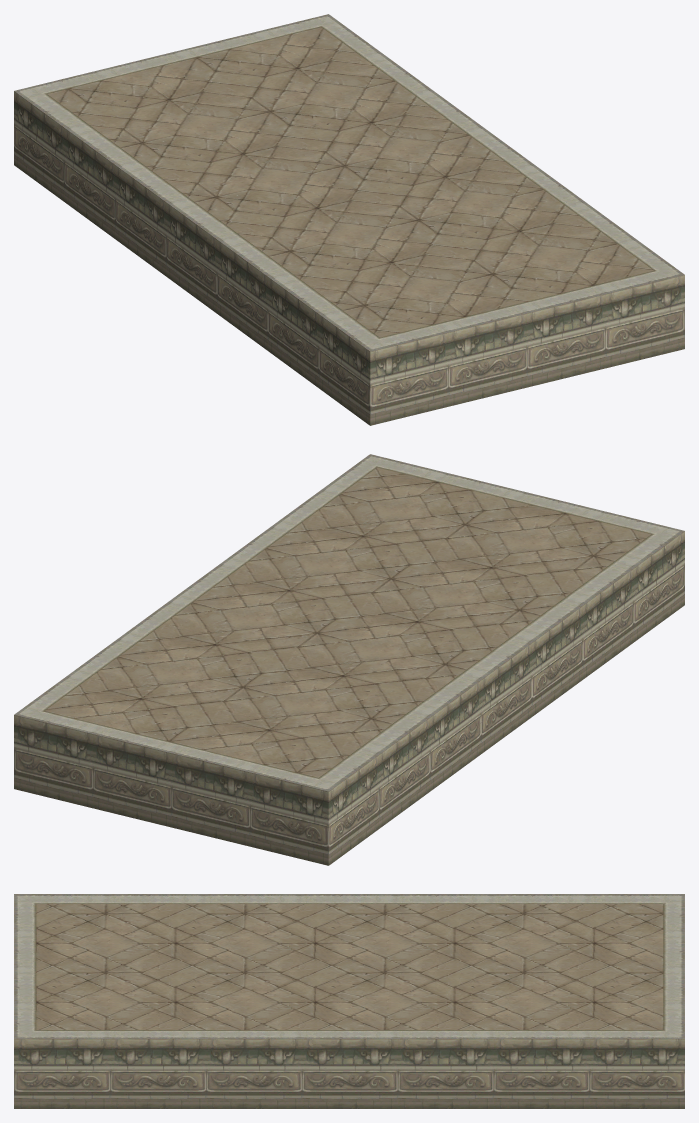
File: environment_Building_zhucheng_002_b.FBX
3 renders of one model, top to bottom at view 1: azimuth 30°, elevation 25°; view 2: azimuth 150°, elevation 25°; view 3: azimuth 270°, elevation 25°, orthographic. The views are drawn at different scales.
Visible parts, largest first — view 1: environment_Building_zhucheng_002_b2, environment_Building_zhucheng_002_b1; view 2: environment_Building_zhucheng_002_b2, environment_Building_zhucheng_002_b1; view 3: environment_Building_zhucheng_002_b2, environment_Building_zhucheng_002_b1.
Boxes of the visible parts, left/top/right/bottom form: environment_Building_zhucheng_002_b2: left=47, top=27, right=653, bottom=337; environment_Building_zhucheng_002_b1: left=14, top=14, right=684, bottom=425; environment_Building_zhucheng_002_b2: left=45, top=467, right=650, bottom=777; environment_Building_zhucheng_002_b1: left=14, top=454, right=684, bottom=865; environment_Building_zhucheng_002_b2: left=36, top=904, right=663, bottom=1029; environment_Building_zhucheng_002_b1: left=14, top=894, right=684, bottom=1108.
Bounding box in the file's own units: 871 × 196 × 1706.
